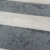zebra: (1, 1, 50, 31)
